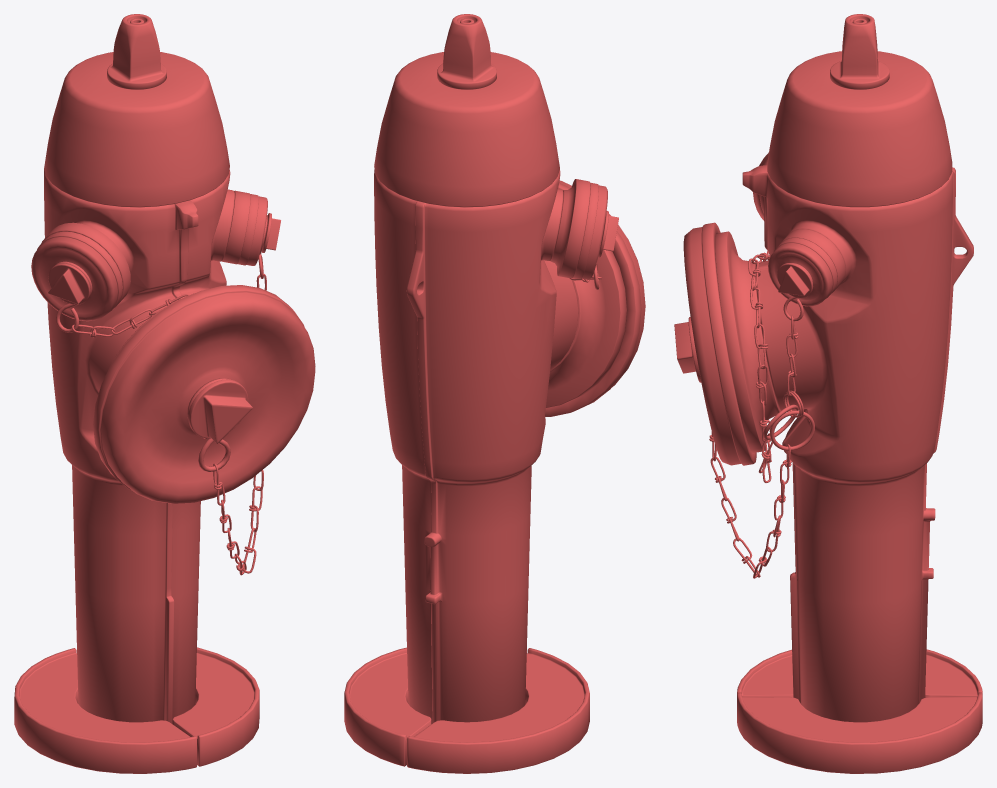
Rendered from prop-hydrant.glb.
3 views of the same model, side by side, from view 1: azimuth 30°, elevation 25°; view 2: azimuth 150°, elevation 25°; view 3: azimuth 270°, elevation 25° (orthographic).
Visible parts, largest first — view 1: fire_hydrant, fire_hydrant_cap_01, fire_hydrant_cap_03, fire_hydrant_chain, fire_hydrant_cap_02; view 2: fire_hydrant, fire_hydrant_cap_01, fire_hydrant_cap_03; view 3: fire_hydrant, fire_hydrant_cap_01, fire_hydrant_chain, fire_hydrant_cap_02.
Part boxes in pixels (box(x1,y1,x2,y2)): fire_hydrant: box(14, 14, 259, 773); fire_hydrant_cap_01: box(93, 285, 315, 503); fire_hydrant_cap_03: box(31, 231, 122, 321); fire_hydrant_chain: box(56, 215, 267, 575); fire_hydrant_cap_02: box(237, 194, 280, 265); fire_hydrant: box(344, 14, 626, 773); fire_hydrant_cap_01: box(545, 180, 645, 416); fire_hydrant_cap_03: box(573, 182, 618, 279); fire_hydrant: box(715, 14, 982, 773); fire_hydrant_cap_01: box(674, 222, 756, 465); fire_hydrant_chain: box(709, 250, 814, 578); fire_hydrant_cap_02: box(768, 238, 837, 306).
Size of the model in its own units: 0.2746 by 0.7995 by 0.3177.
